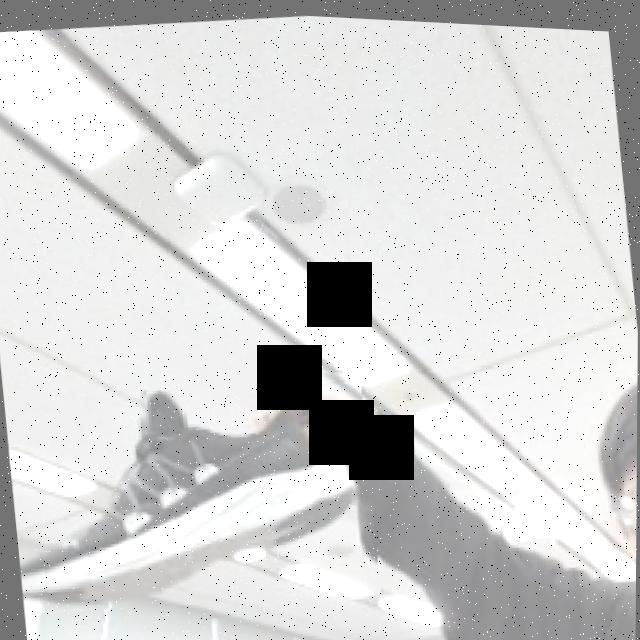shoe: (1, 346, 383, 627)
